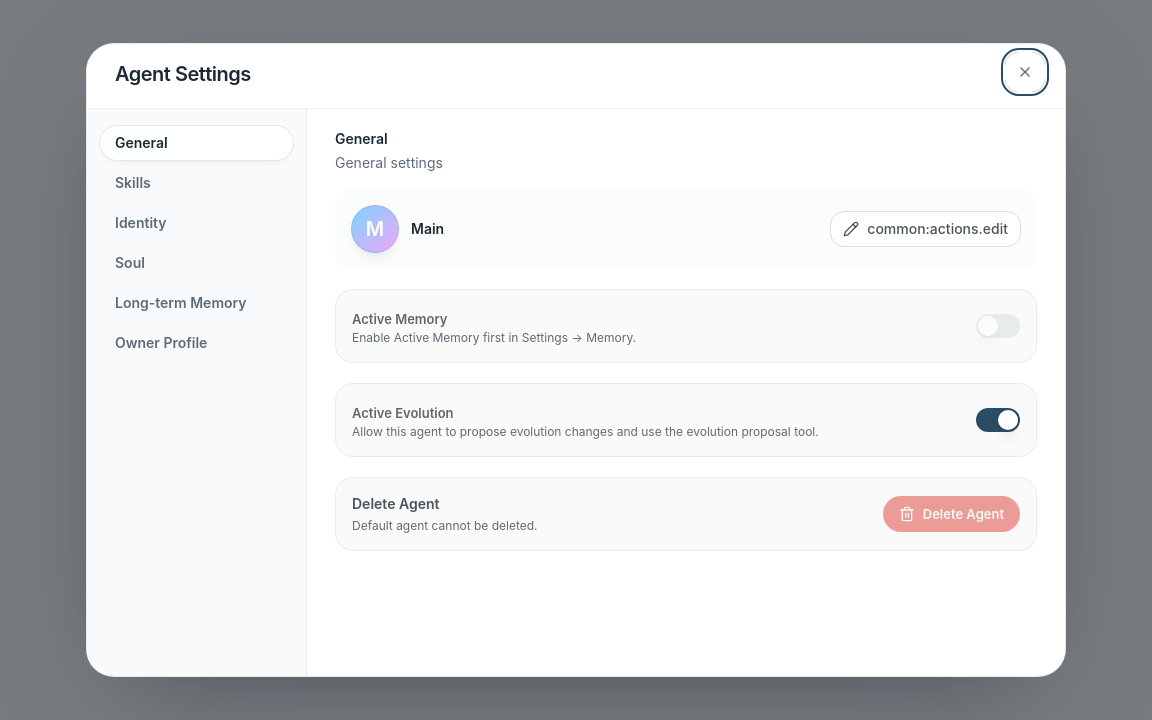
Test: AgentSettingsDialog shell › shows current enabled skills for the main agent from the agent-scoped gateway view
Click the tab "Skills": (196, 183) [99, 165, 294, 201]
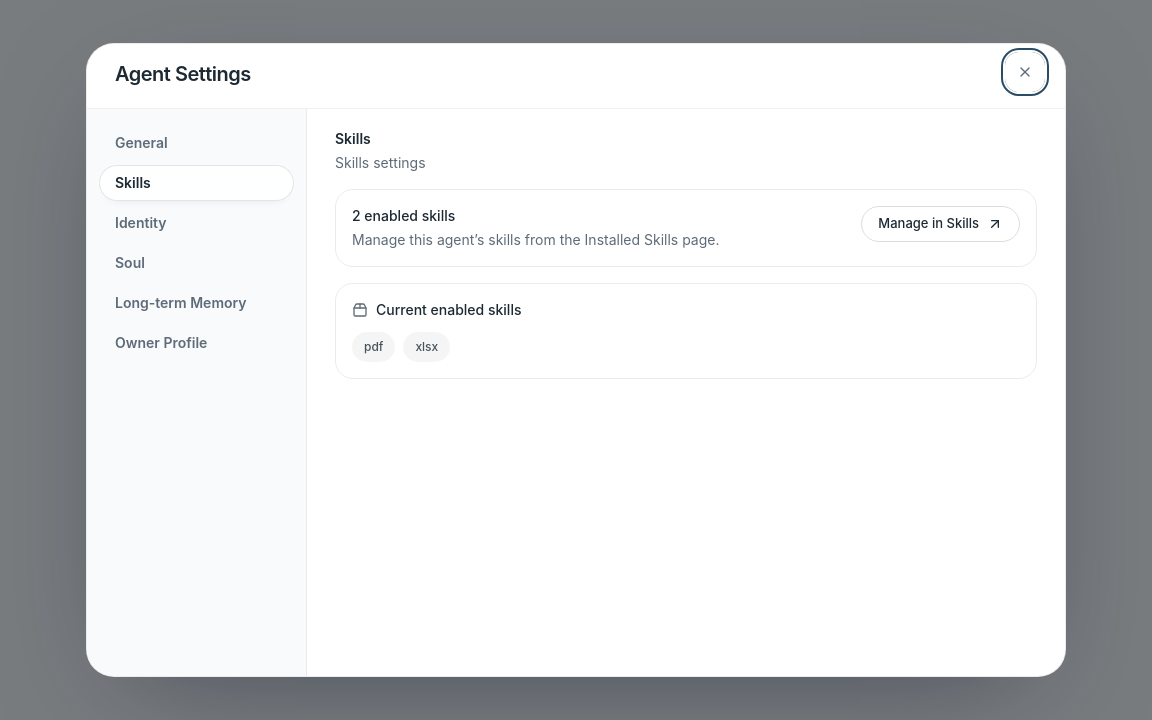
Expected: the text "2 enabled skills" is shown, [352, 207, 455, 224]
Expected: the text "pdf" is shown, [352, 332, 395, 362]
Expected: the text "xlsx" is shown, [403, 332, 450, 362]
